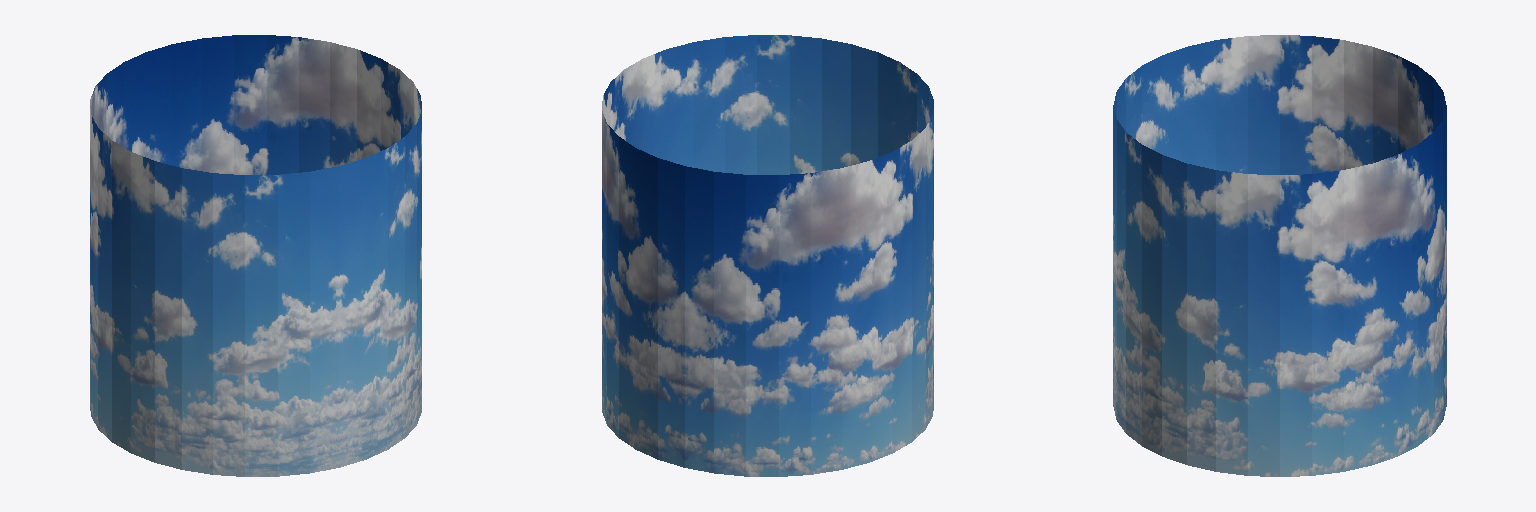
The picture shows the model from 3 angles: view 1: azimuth 30°, elevation 25°; view 2: azimuth 150°, elevation 25°; view 3: azimuth 270°, elevation 25°; orthographic projection.
Visible parts, largest first — view 1: Untitled; view 2: Untitled; view 3: Untitled.
Part boxes in pixels (x1,y1,x2,y2): Untitled: (90,35,421,476); Untitled: (602,35,933,476); Untitled: (1113,35,1446,476).
Size of the model in its own units: 10 by 10 by 10.
Materials: 1 (1 with a texture image).